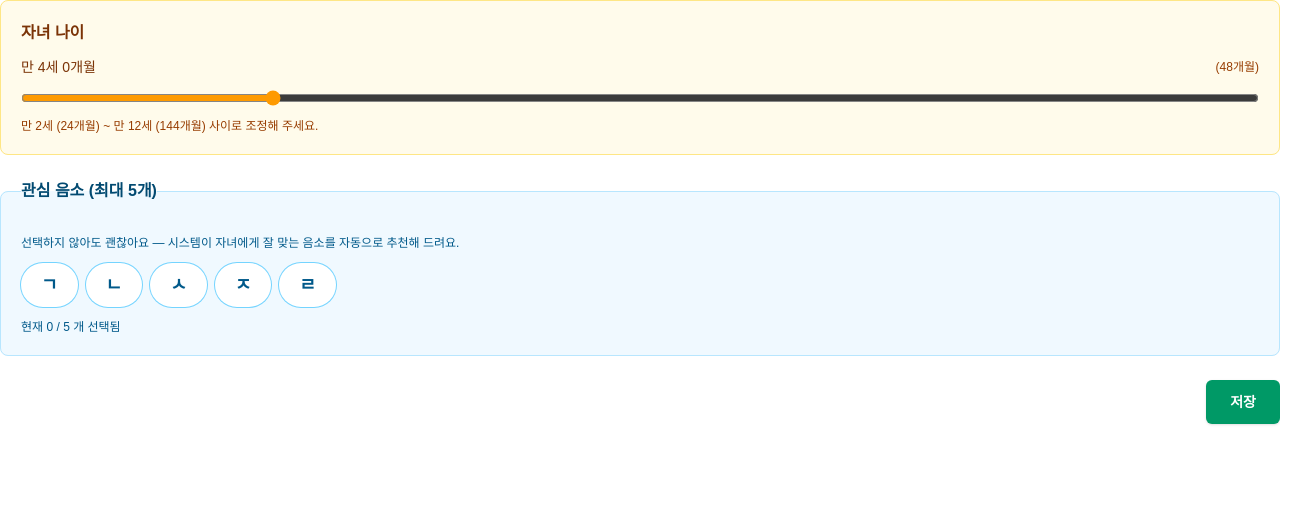
ChildProfileForm — FR-C-PARENT-SETTINGS › [6] 저장 실패 → 에러 메시지 노출 (success toast 미노출)
The width and height of the screenshot is (1292, 510).
Click the button with test id "child-profile-submit".
click(1243, 402)  # box [1206,380,1280,424]
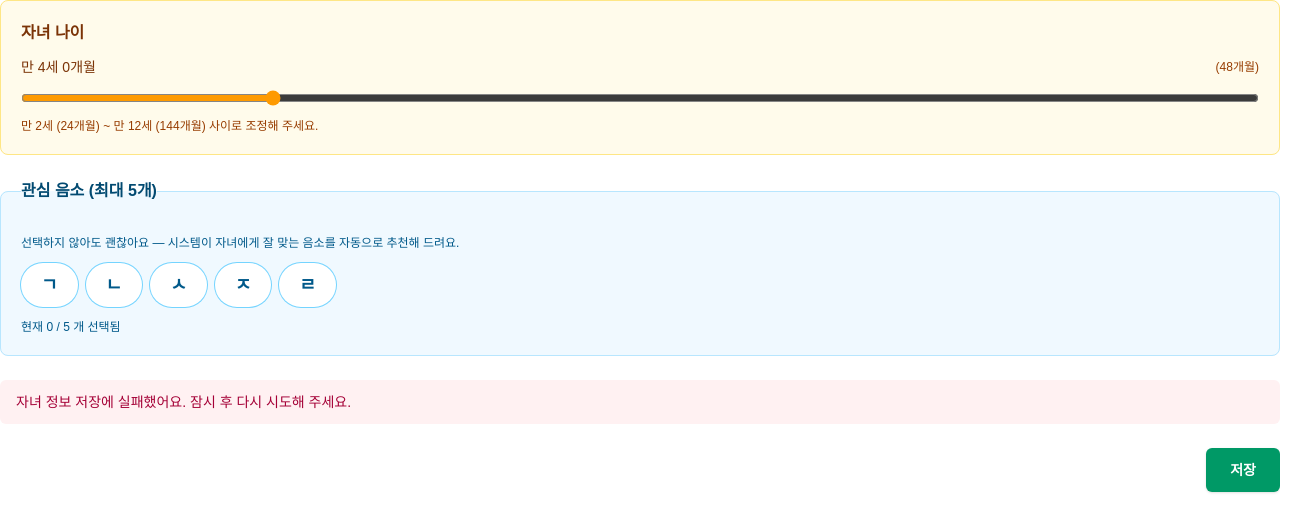
Now the message "자녀 정보 저장에 실패했어요. 잠시 후 다시 시도해 주세요." is shown, box [0,380,1280,424]
Now the message with test id "child-profile-error" shows "저장에 실패", box [16,394,351,410]
